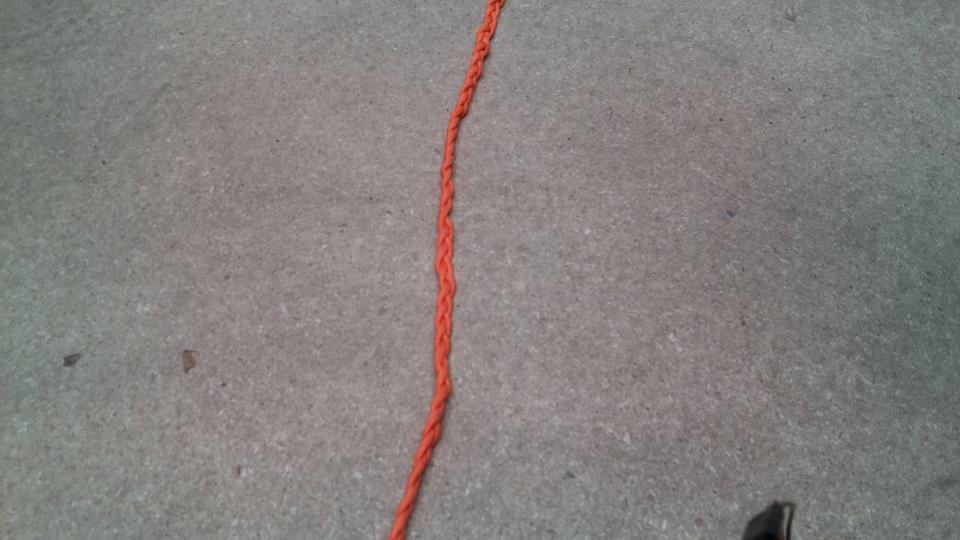rope: (387, 2, 508, 540)
